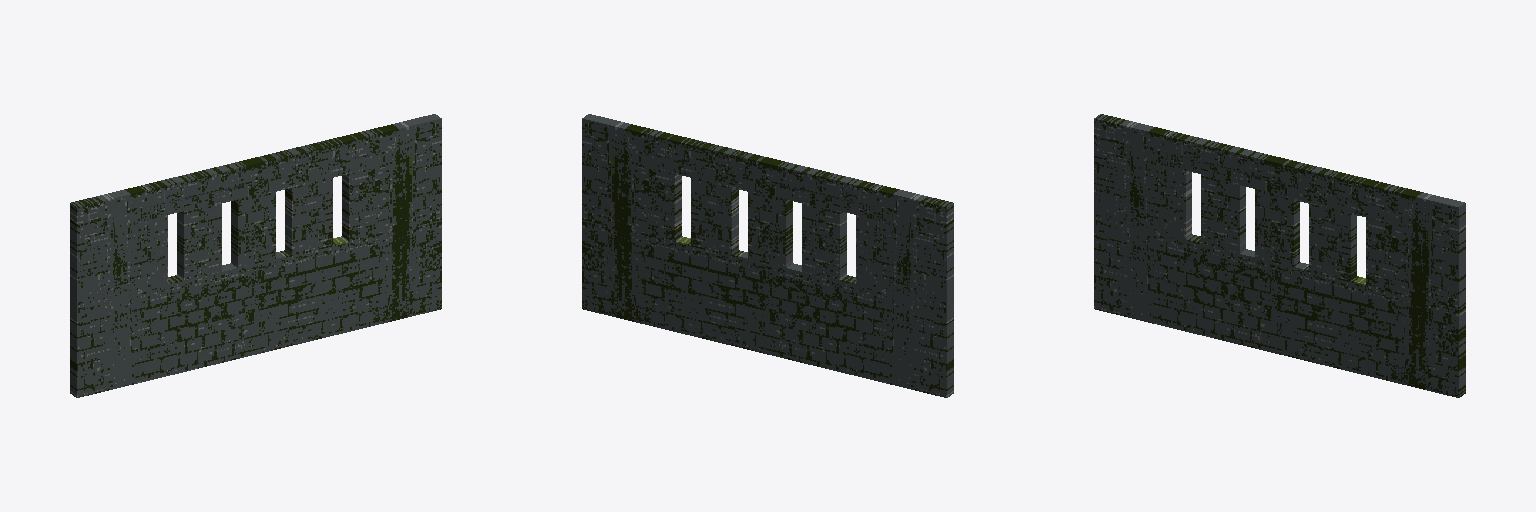
3 views of the same model, side by side, from view 1: azimuth 30°, elevation 25°; view 2: azimuth 150°, elevation 25°; view 3: azimuth 330°, elevation 25° (orthographic).
Visible parts, largest first — view 1: object 1; view 2: object 1; view 3: object 1.
Boxes of the visible parts, x1,y1,x2,y2 form: object 1: [70, 114, 441, 397]; object 1: [582, 114, 953, 397]; object 1: [1094, 114, 1465, 397].
Size of the model in its own units: 25.6 by 12.8 by 0.8.
1 materials, 1 textured.